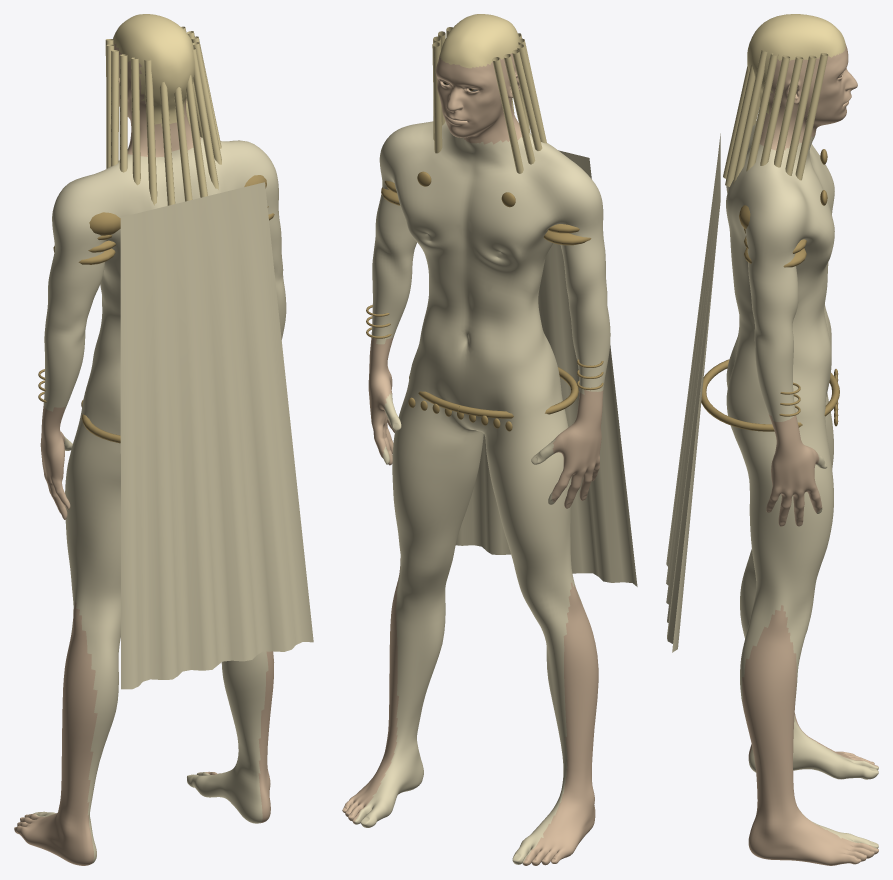
File: party_sun_elf.glb
The picture shows the model from 3 angles, left to right: view 1: azimuth 30°, elevation 25°; view 2: azimuth 150°, elevation 25°; view 3: azimuth 270°, elevation 25°; orthographic projection.
Visible parts, largest first — view 1: Cloak, Anatomy, Hair.005, Hair.009, Hair.004, Hair.003, Hair.006, Hair.008, Hair.002, Hair.007, Hair.010, Hair.001 (+1 smaller); view 2: Anatomy, Cloak, Belt, Hair, Hair.001, Hair.002, Hair.014, Hair.003; view 3: Anatomy, Cloak, Belt, Hair.014, Hair.013, Hair.009, Hair.010, Hair.012, Hair.008, Hair.011, Hair.007.
Boxes of the visible parts, box(x1,y1,x2,y2) form: Cloak: box(120, 182, 313, 689); Anatomy: box(14, 14, 286, 865); Hair.005: box(144, 60, 157, 205); Hair.009: box(192, 47, 218, 189); Hair.004: box(131, 57, 140, 185); Hair.003: box(119, 54, 127, 172); Hair.006: box(159, 82, 175, 205); Hair.008: box(186, 75, 207, 197); Hair.002: box(110, 50, 118, 166); Hair.007: box(174, 87, 192, 201); Hair.010: box(192, 42, 221, 164); Hair.001: box(106, 44, 114, 168); Anatomy: box(342, 14, 610, 865); Cloak: box(455, 150, 637, 586); Belt: box(409, 367, 578, 418); Hair: box(492, 57, 523, 173); Hair.001: box(503, 54, 535, 164); Hair.002: box(512, 49, 542, 150); Hair.014: box(432, 42, 442, 153); Hair.003: box(516, 44, 546, 143); Anatomy: box(726, 14, 878, 865); Cloak: box(666, 133, 720, 652); Belt: box(701, 359, 839, 431); Hair.014: box(795, 53, 828, 180); Hair.013: box(785, 55, 816, 175); Hair.009: box(733, 50, 767, 183); Hair.010: box(746, 53, 778, 171); Hair.012: box(774, 56, 803, 167); Hair.008: box(725, 65, 755, 186); Hair.011: box(760, 55, 789, 165); Hair.007: box(723, 65, 749, 178).
Size of the model in its own units: 0.6124 by 2 by 0.4836.
